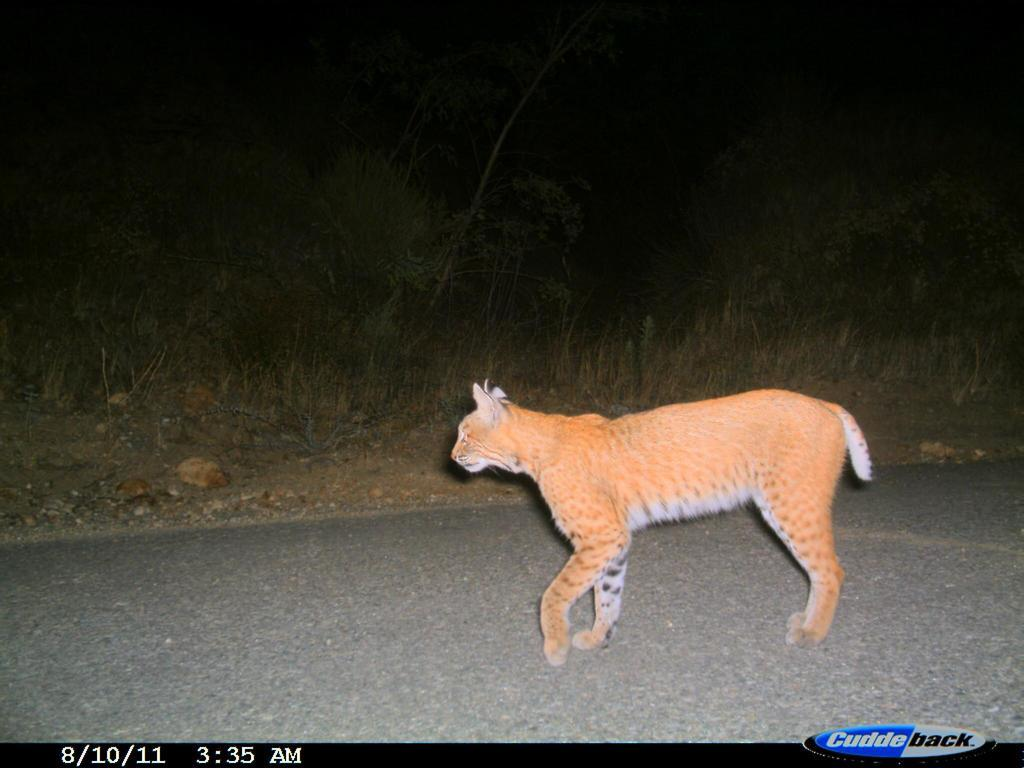bobcat: (441, 374, 881, 675)
